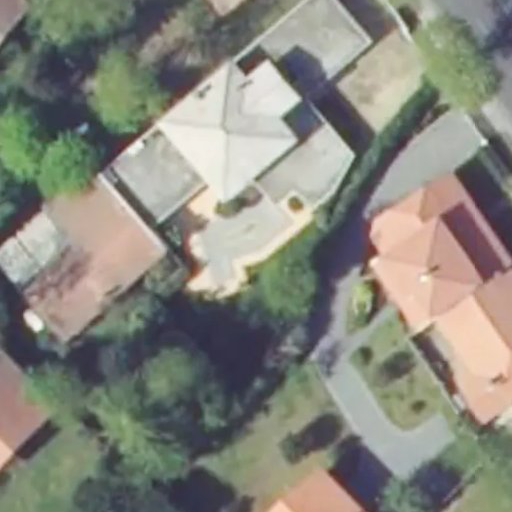pool: (192, 197, 297, 277)
